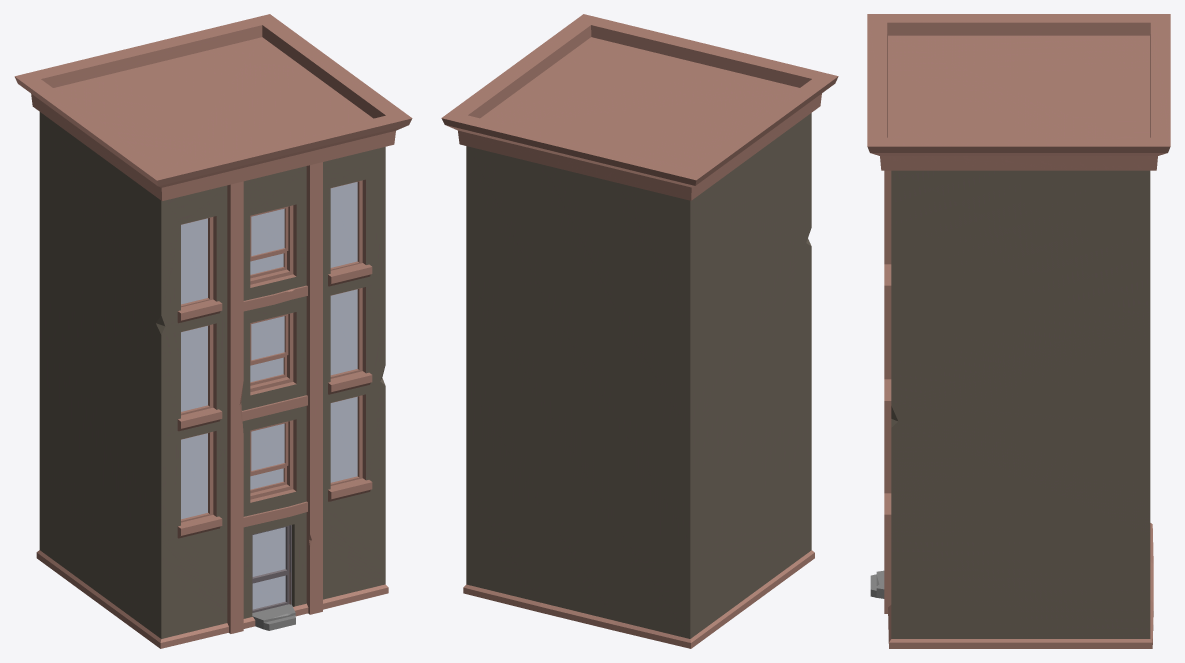
The model's file is pp-brown.glb.
3 renders of one model, left to right at view 1: azimuth 30°, elevation 25°; view 2: azimuth 150°, elevation 25°; view 3: azimuth 270°, elevation 25°, orthographic. The views are drawn at different scales.
Parts seen in each view (by area): view 1: BrownBuilding; view 2: BrownBuilding; view 3: BrownBuilding.
Boxes of the visible parts, x1=… form: BrownBuilding: x1=14, y1=14, x2=412, y2=648; BrownBuilding: x1=441, y1=14, x2=838, y2=648; BrownBuilding: x1=867, y1=14, x2=1170, y2=648.
Size of the model in its own units: 2.28 by 4.08 by 2.2.
Materials: 2 (2 with a texture image).
